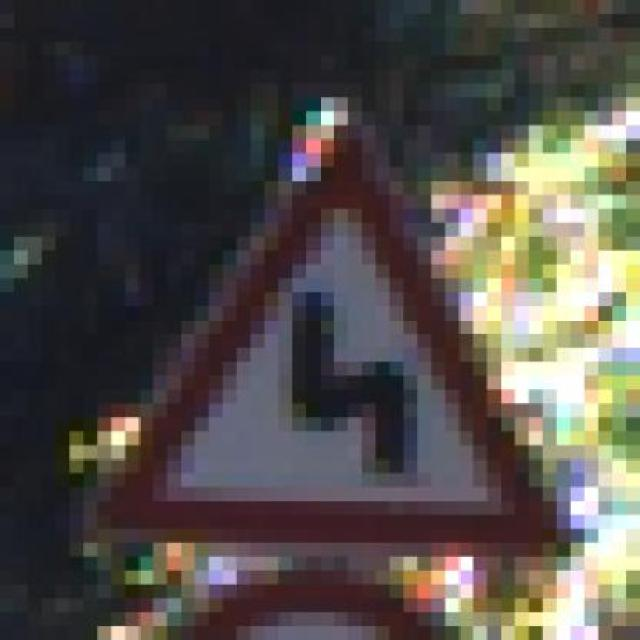Left Zig Zag Traffic: (70, 97, 612, 571)
